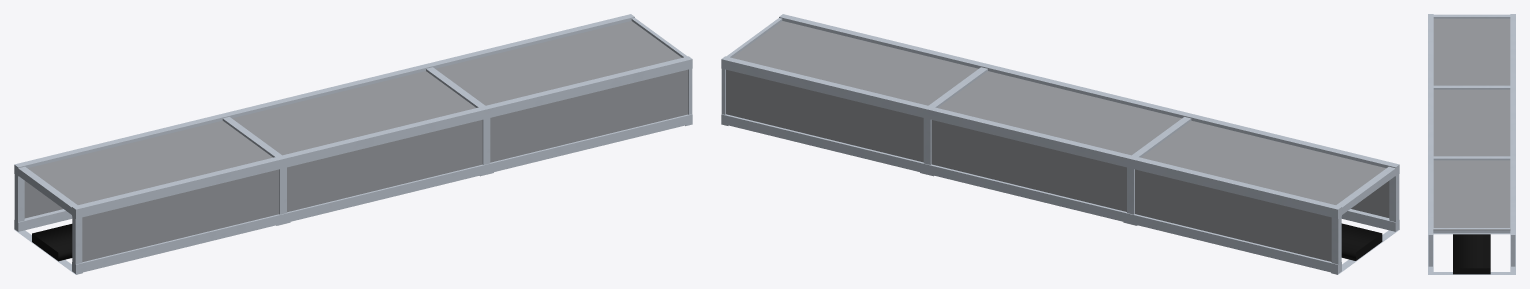
Rendered from SM05_Industrial_CableTray_01_End_01.fbx.
3 views of the same model, side by side, from view 1: azimuth 30°, elevation 25°; view 2: azimuth 150°, elevation 25°; view 3: azimuth 270°, elevation 25° (orthographic). The views are drawn at different scales.
Visible parts, largest first — view 1: SM05_Industrial_CableTray_01_End_01; view 2: SM05_Industrial_CableTray_01_End_01; view 3: SM05_Industrial_CableTray_01_End_01.
Boxes of the visible parts, left/top/right/bottom form: SM05_Industrial_CableTray_01_End_01: left=14, top=14, right=692, bottom=274; SM05_Industrial_CableTray_01_End_01: left=721, top=14, right=1399, bottom=274; SM05_Industrial_CableTray_01_End_01: left=1428, top=14, right=1515, bottom=274.
Size of the model in its own units: 3.75 by 0.3796 by 0.65.
